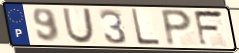3: (98, 8, 128, 46)
9: (32, 7, 61, 44)
F: (192, 10, 226, 48)
L: (129, 8, 162, 47)
P: (159, 7, 194, 48)
U: (61, 7, 96, 45)
